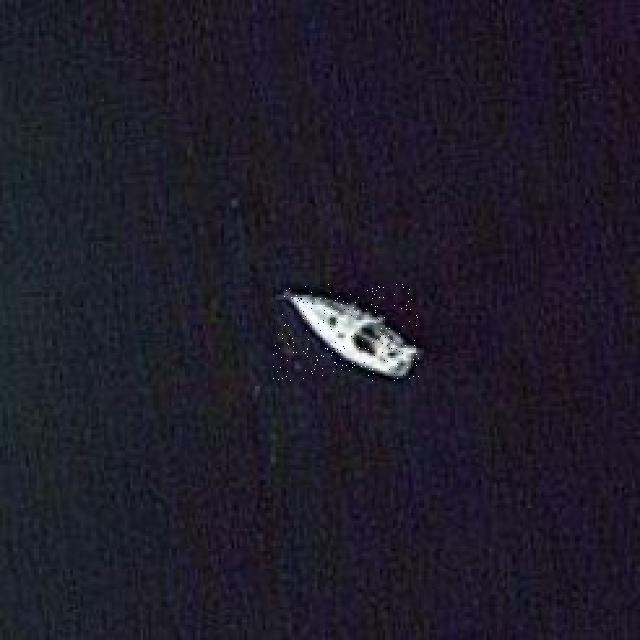boat: (273, 284, 419, 381)
